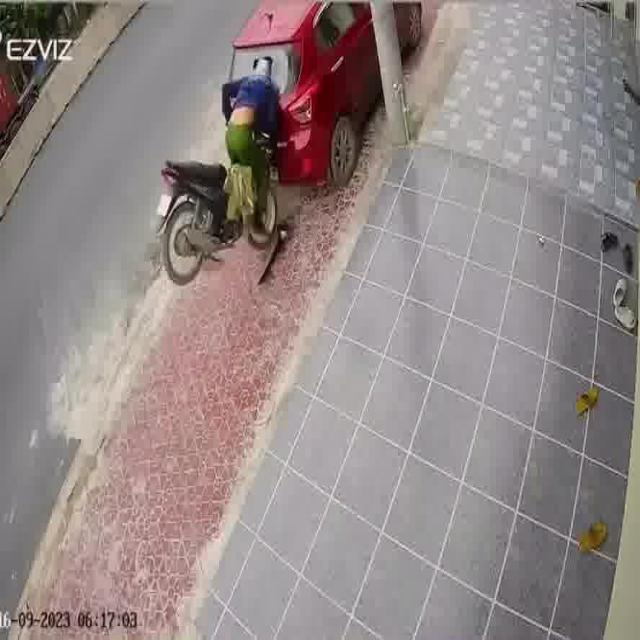multiple_accident: (149, 0, 376, 300)
